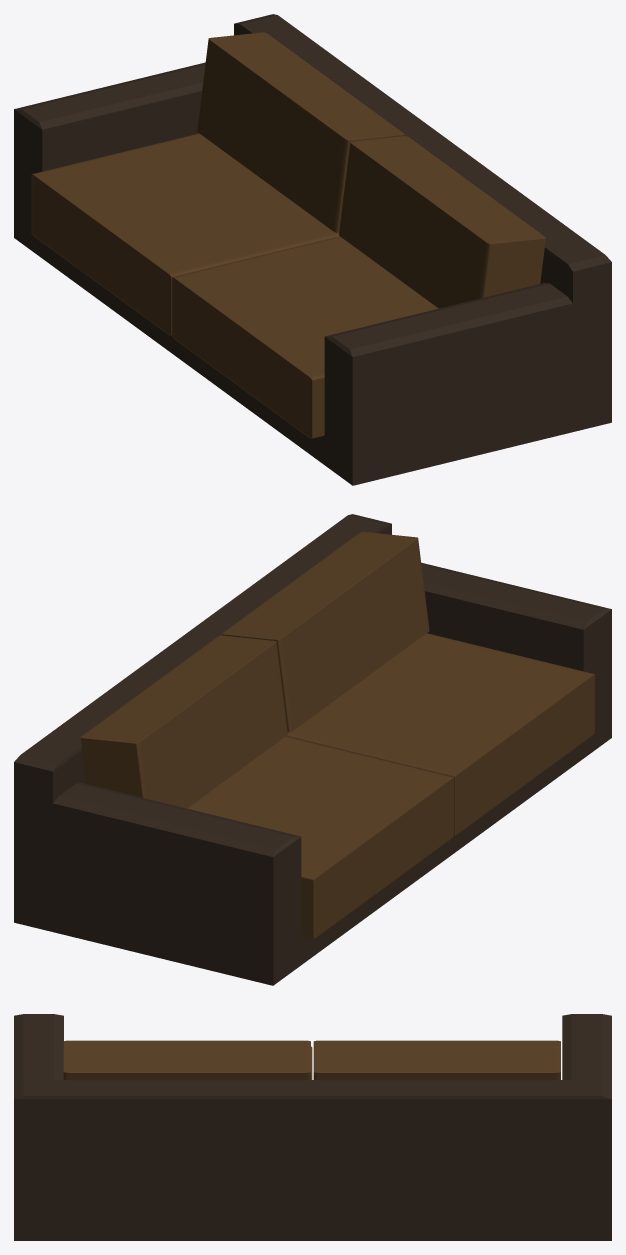
Rendered from Couch.fbx.
The picture shows the model from 3 angles, top to bottom: view 1: azimuth 30°, elevation 25°; view 2: azimuth 150°, elevation 25°; view 3: azimuth 270°, elevation 25°; orthographic projection. The views are drawn at different scales.
Visible parts, largest first — view 1: Cube, Cube.001, Cube.002, Cube.004, Cube.003; view 2: Cube, Cube.002, Cube.001, Cube.003, Cube.004; view 3: Cube, Cube.003, Cube.004.
Boxes of the visible parts, x1,y1,x2,y2 form: Cube: (14, 14, 611, 485); Cube.001: (31, 133, 339, 335); Cube.002: (172, 236, 438, 438); Cube.004: (338, 136, 545, 308); Cube.003: (197, 32, 404, 232); Cube: (14, 514, 611, 985); Cube.002: (286, 633, 594, 835); Cube.001: (187, 736, 453, 938); Cube.003: (80, 635, 287, 808); Cube.004: (222, 531, 429, 732); Cube: (14, 1014, 611, 1240); Cube.003: (313, 1040, 560, 1080); Cube.004: (63, 1040, 310, 1080).
Size of the model in its own units: 111 by 70.65 by 240.
